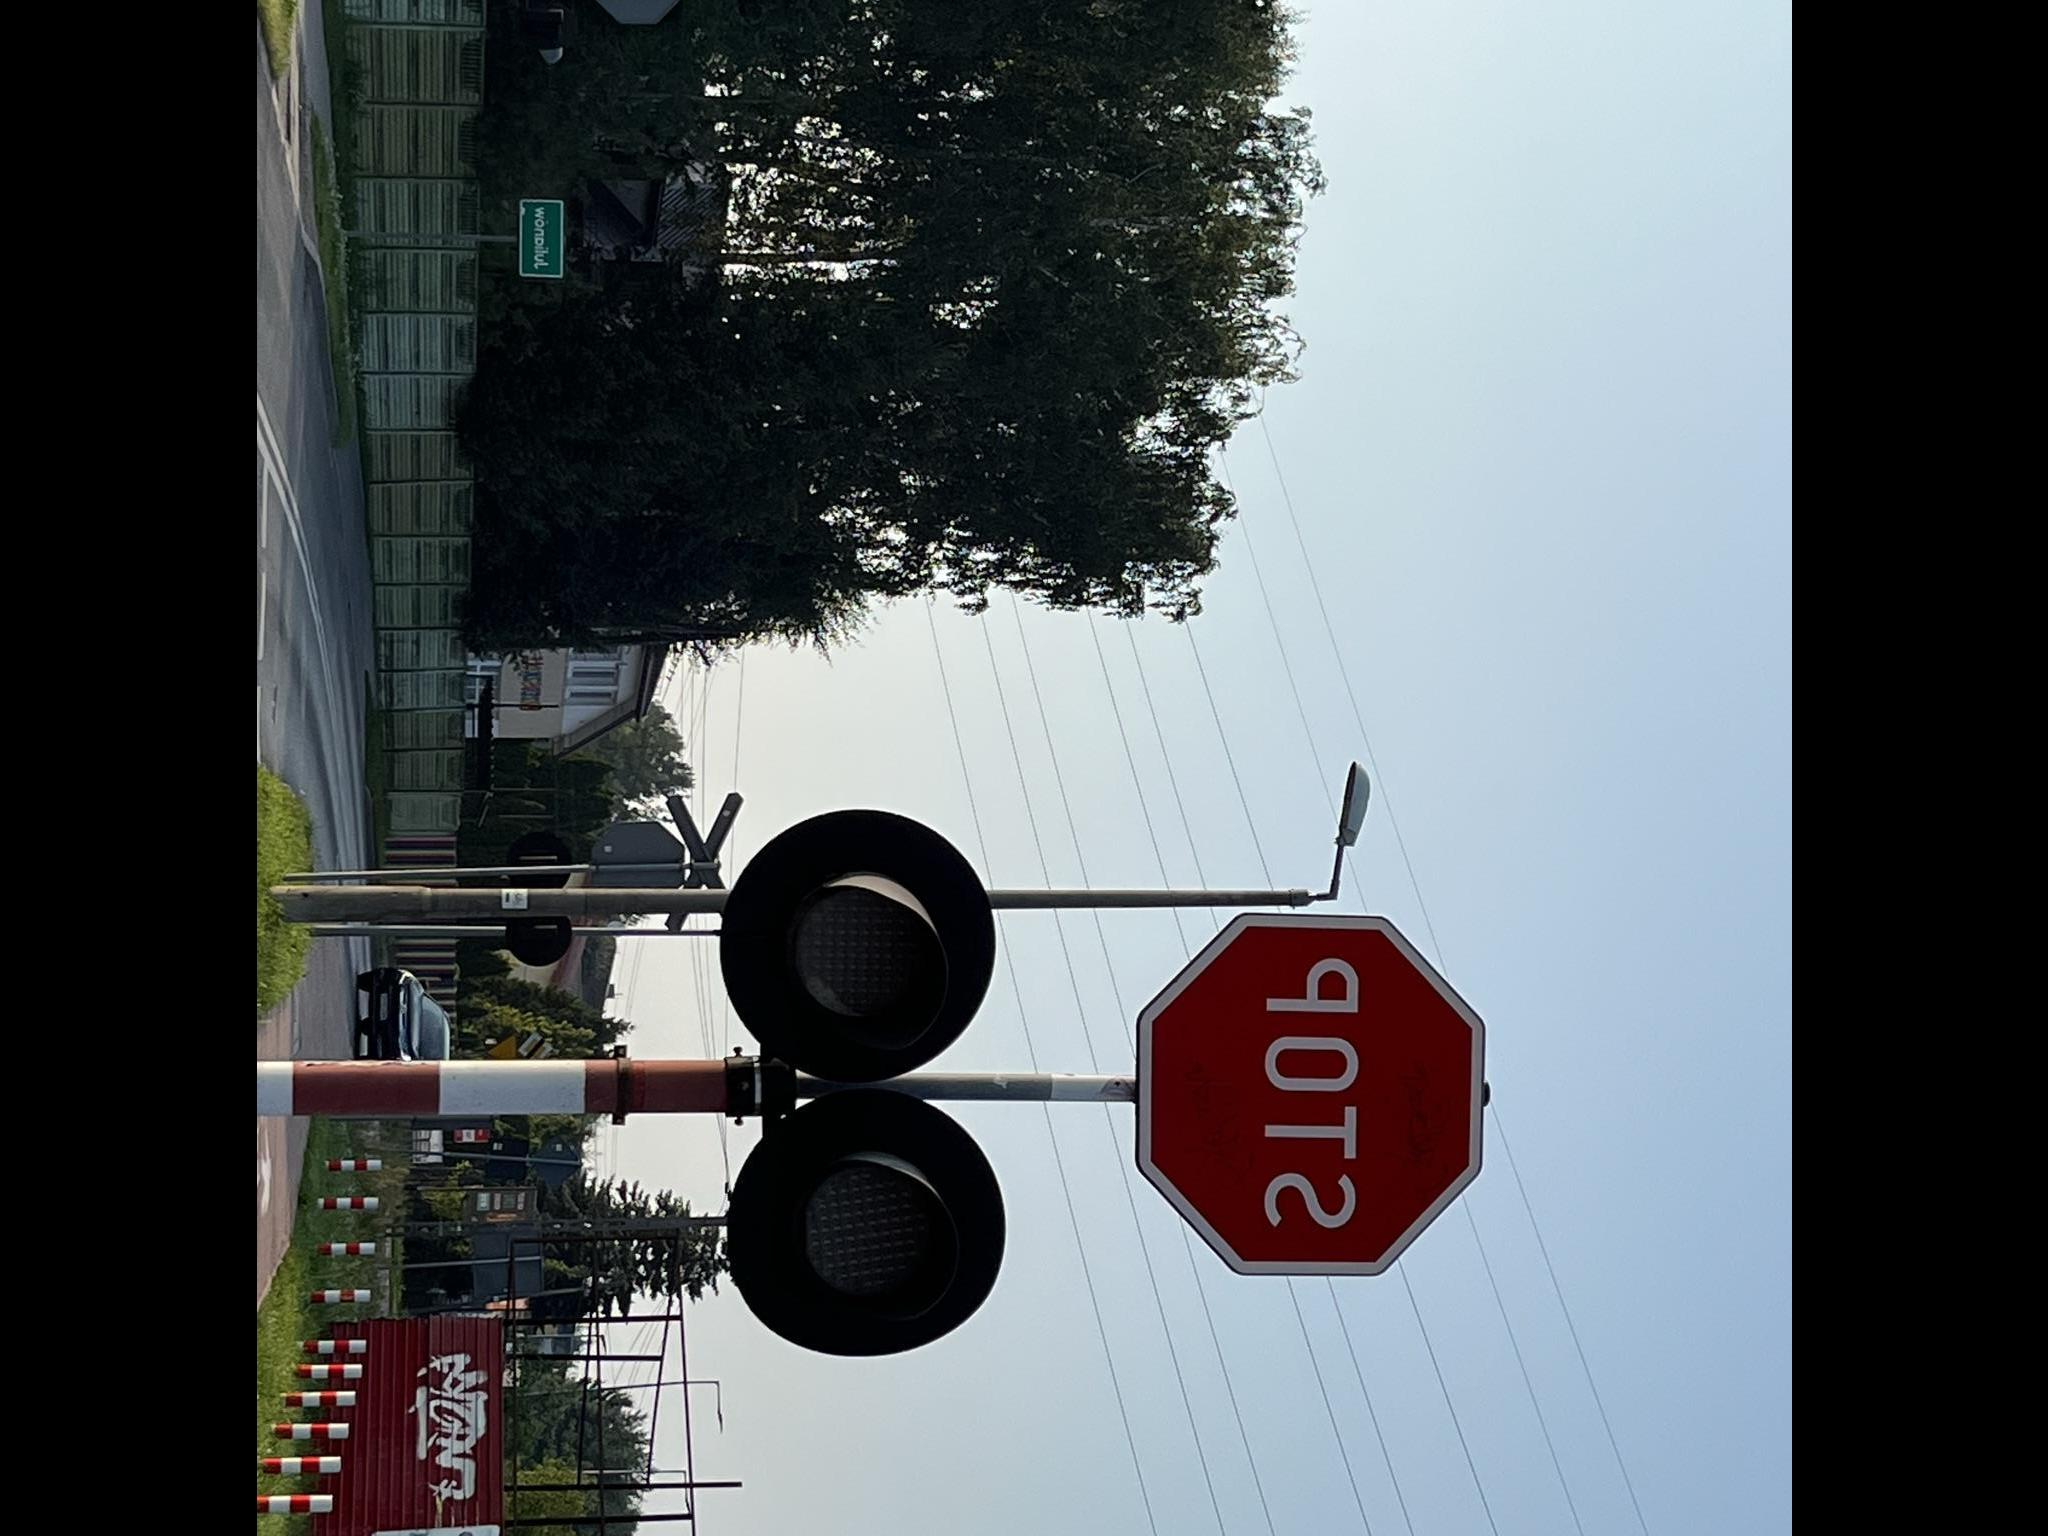direction-city: (518, 200, 563, 276)
prohibitory: (1132, 912, 1484, 1278)
